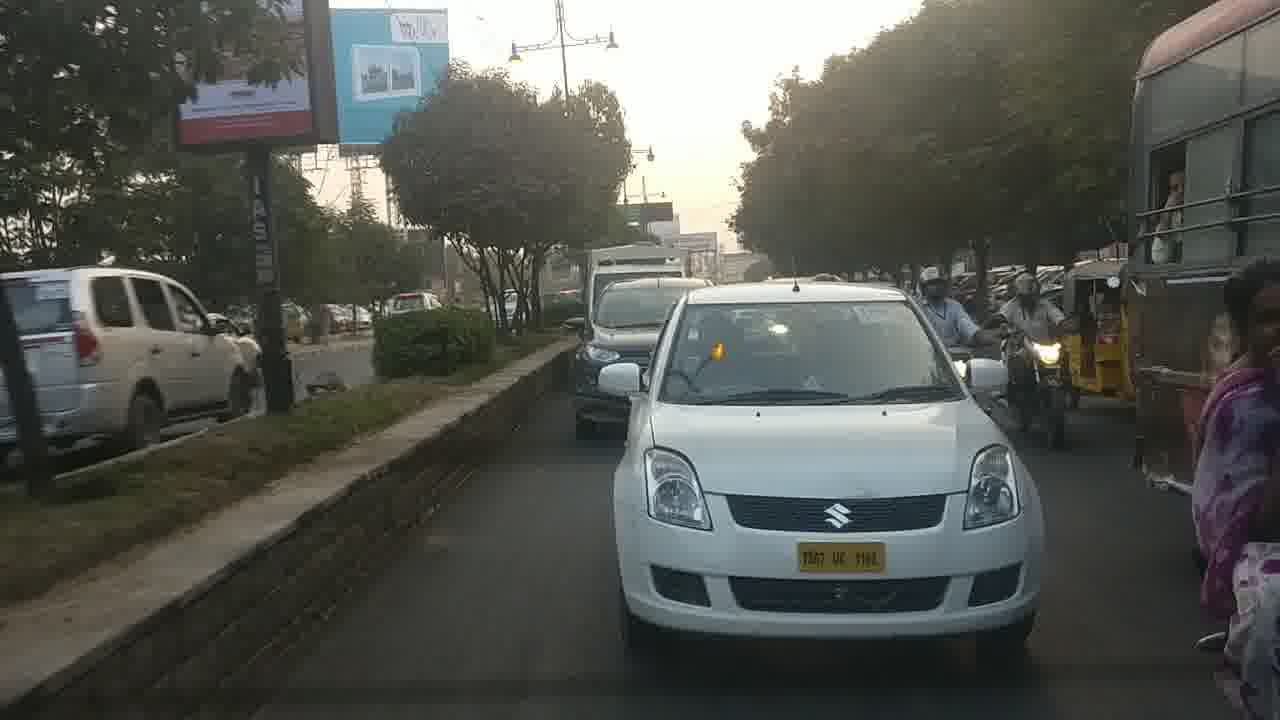swift desire: (616, 295, 1046, 632)
